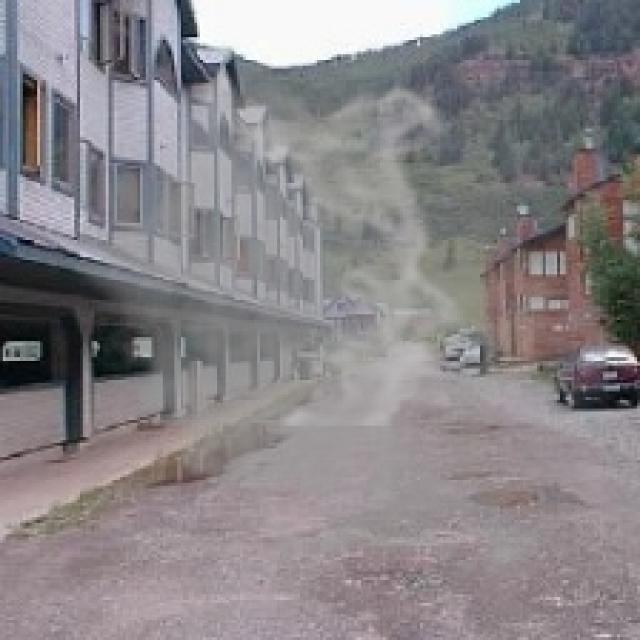Smoke: (57, 72, 609, 598)
